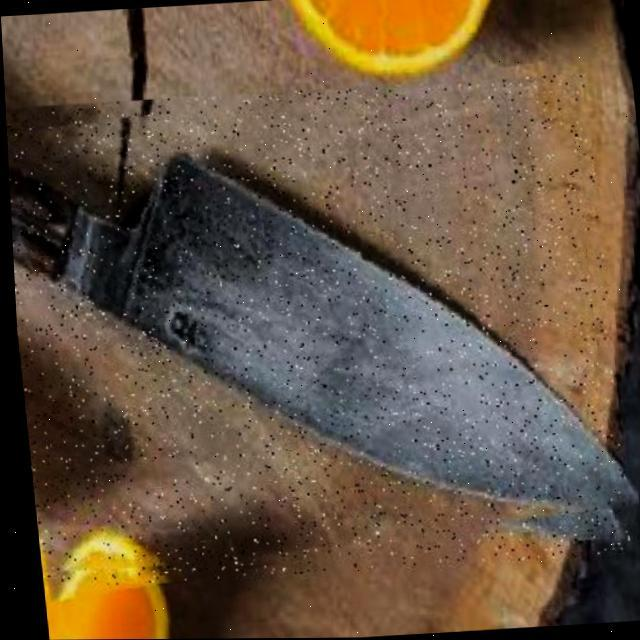knife: (3, 74, 629, 589)
